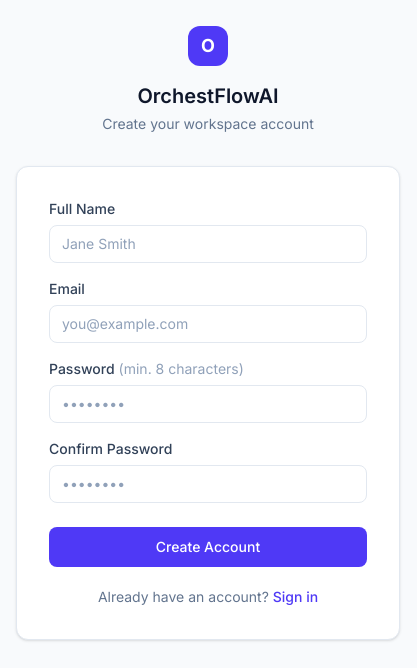
Test case: SignupPage › shows inline mismatch hint when passwords differ
The image size is (417, 668).
Type "password123" into the password field labelled "Password(min. 8 characters)". click: (208, 404)
box: x1=49 y1=385 x2=367 y2=423
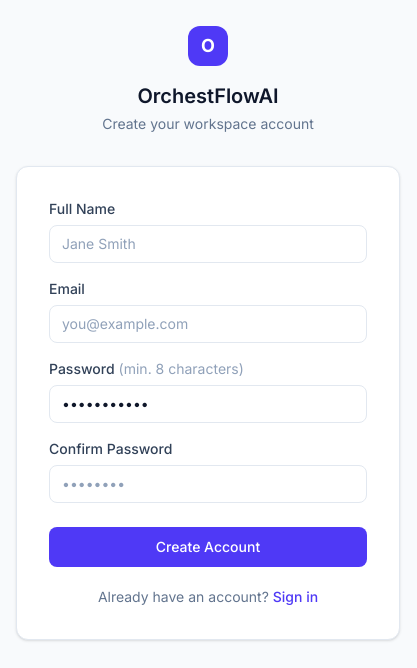
Type "different" into the password field labelled "Confirm Password". click: (208, 484)
box: x1=49 y1=465 x2=367 y2=503
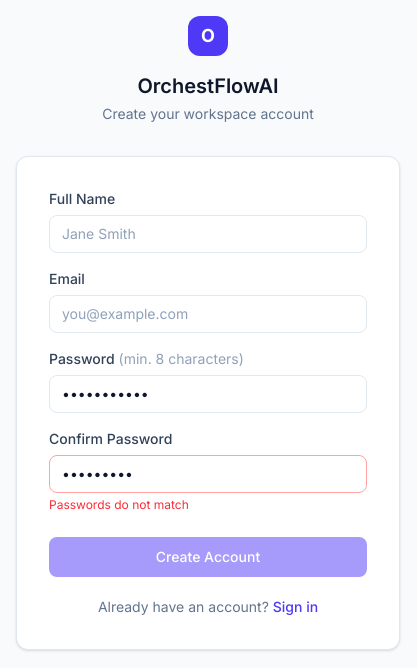
Check: the text "Passwords do not match" is shown, box x1=49 y1=497 x2=189 y2=512
